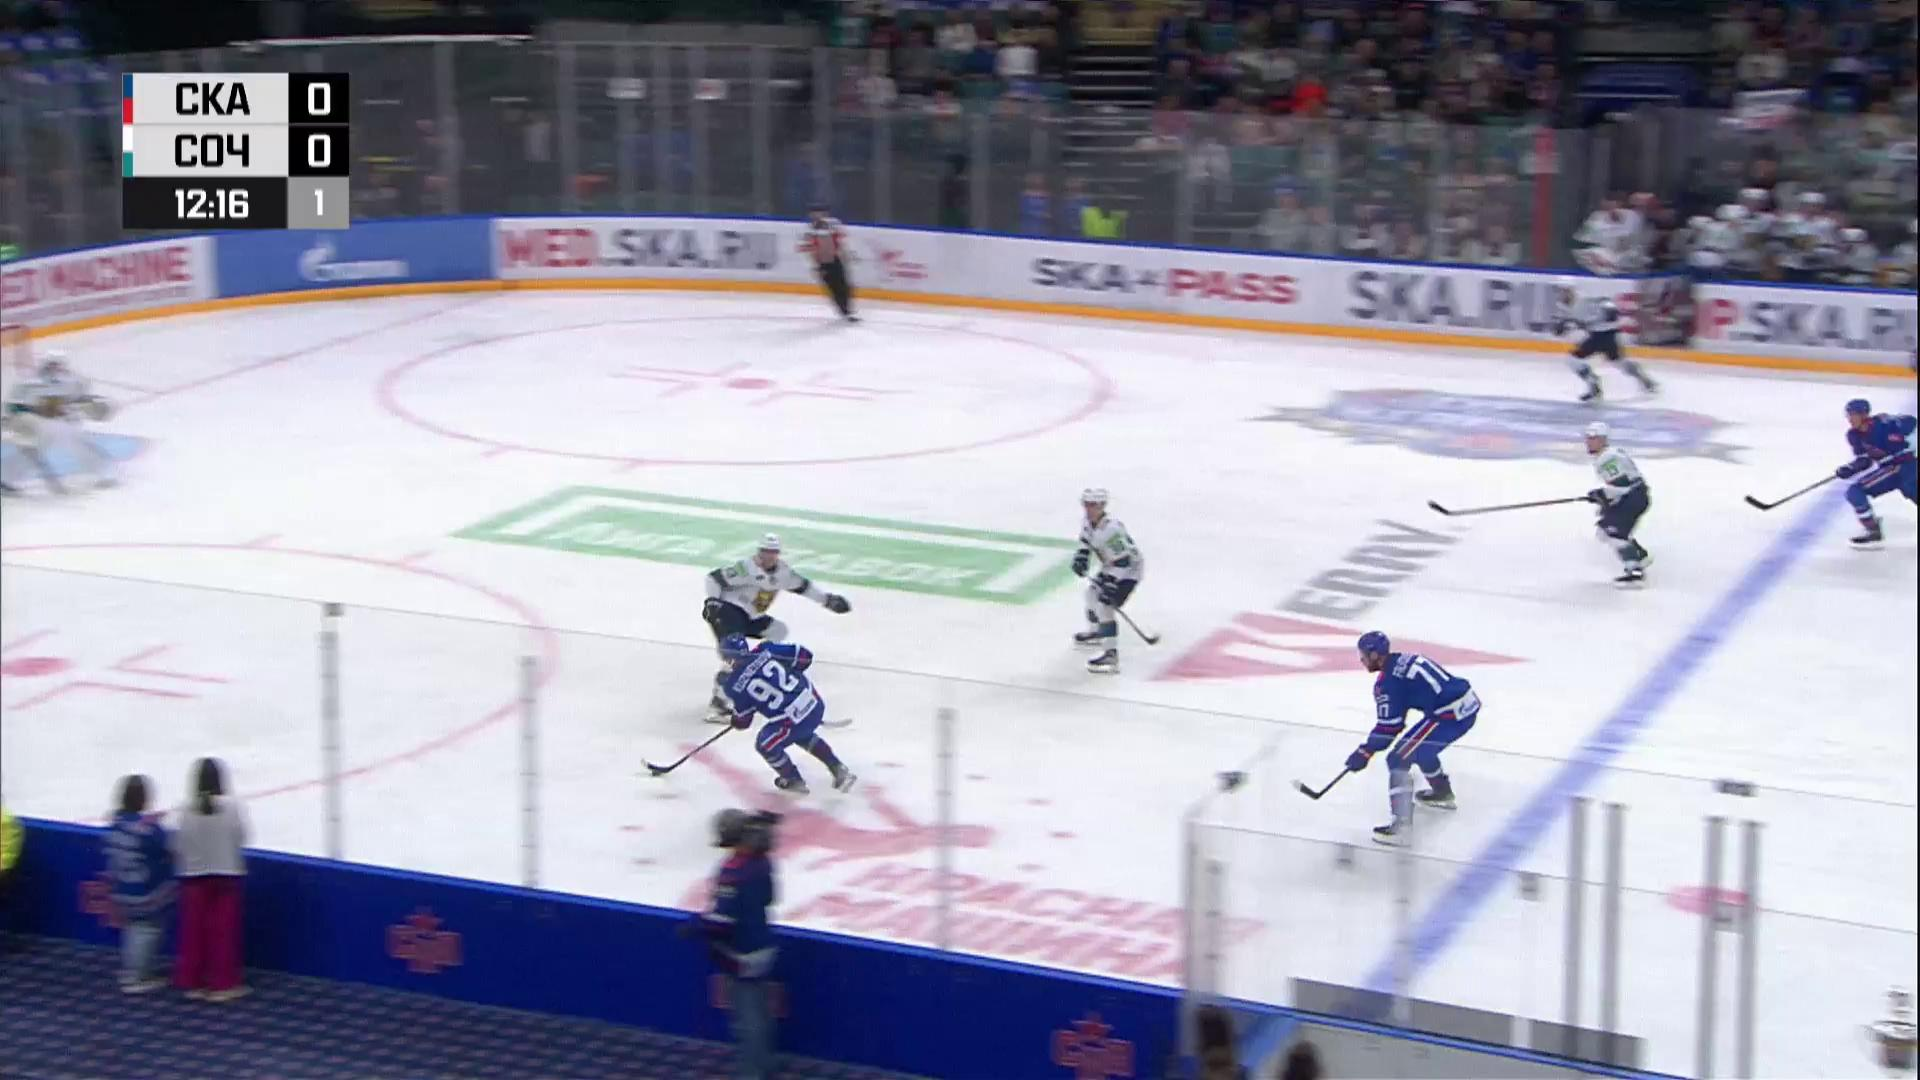ball: (651, 770, 661, 777)
